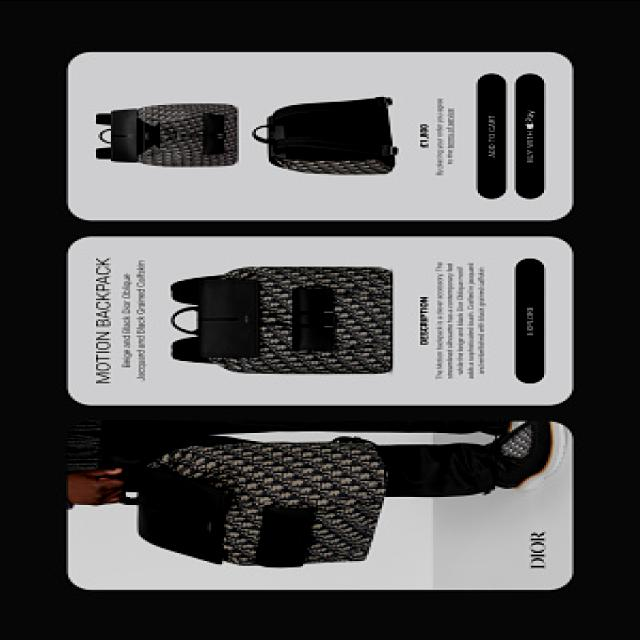backpack: (118, 435, 398, 577), (166, 262, 403, 382), (251, 88, 403, 184), (92, 97, 244, 177)
